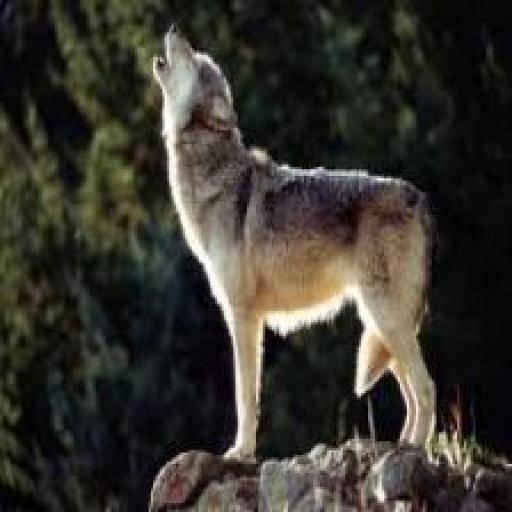wolf: (146, 18, 462, 464)
